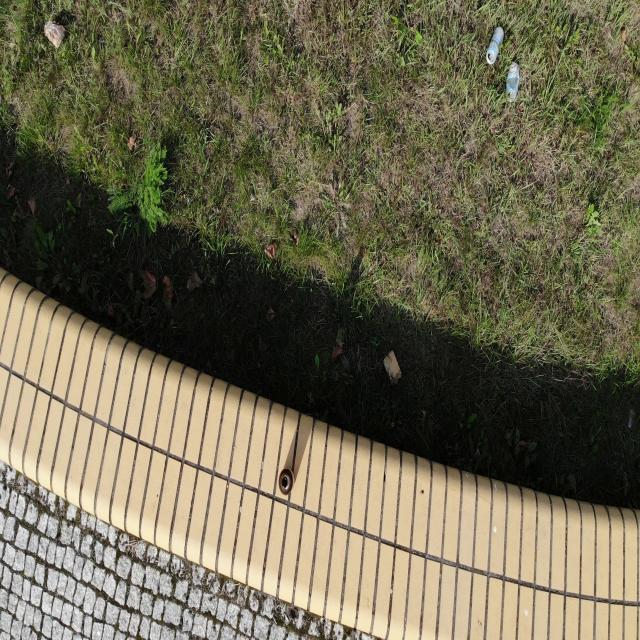rubbish: (382, 349, 404, 389), (43, 19, 66, 49), (487, 27, 505, 64), (506, 61, 520, 103), (279, 469, 294, 496)
